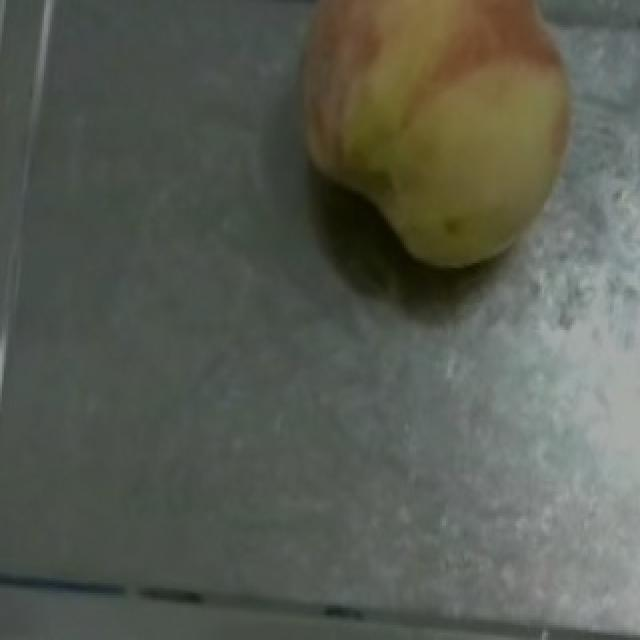Fruit: (268, 0, 602, 295)
